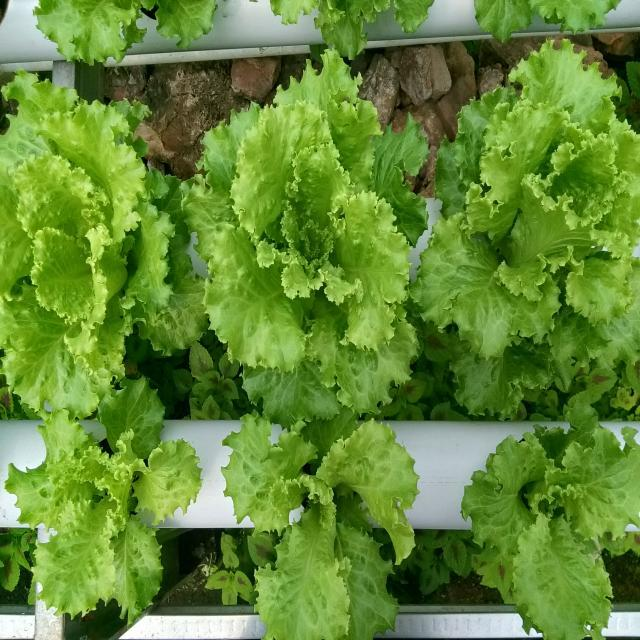Baby: (0, 380, 202, 637), (207, 415, 418, 640), (461, 397, 640, 640)
Mature: (183, 50, 427, 426), (411, 39, 640, 419), (0, 71, 207, 419)
